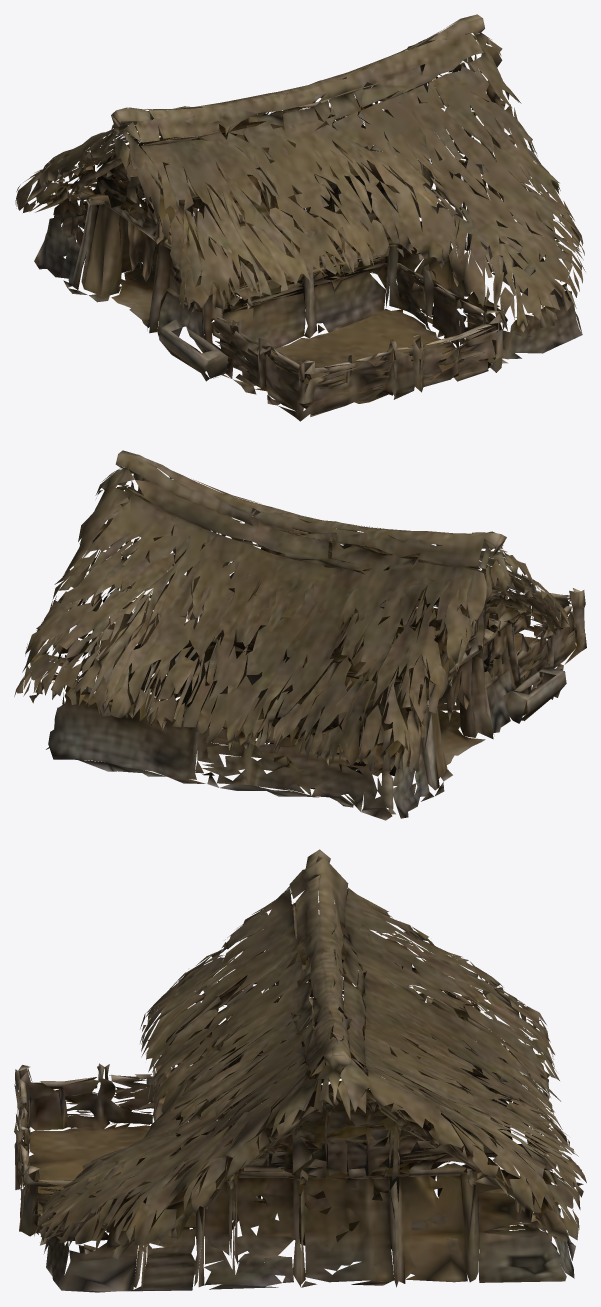
File: pasture_far.glb
The picture shows the model from 3 angles, top to bottom: view 1: azimuth 30°, elevation 25°; view 2: azimuth 150°, elevation 25°; view 3: azimuth 270°, elevation 25°; orthographic projection. The views are drawn at different scales.
Parts seen in each view (by area): view 1: model; view 2: model; view 3: model.
Boxes of the visible parts, x1=… form: model: x1=15, y1=14, x2=585, y2=421; model: x1=14, y1=450, x2=586, y2=820; model: x1=14, y1=849, x2=586, y2=1292.
Bounding box in the file's own units: 0.8975 × 0.4801 × 0.9853.
1 material, 1 textured.
